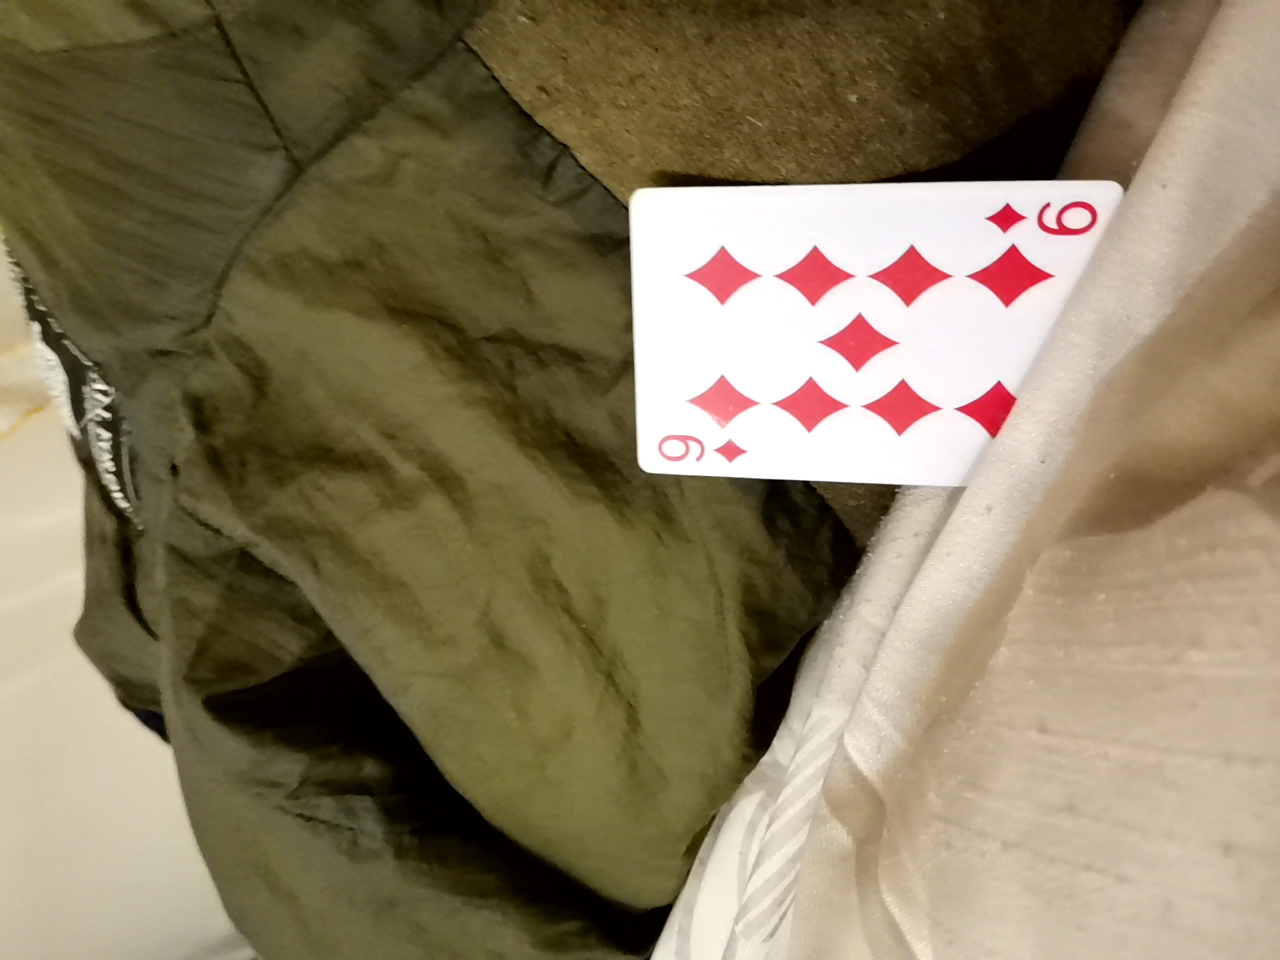fk 9: (585, 171, 1104, 485)
